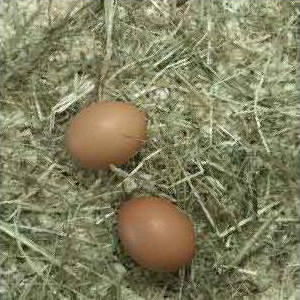egg: (118, 197, 197, 274), (66, 101, 148, 169)
